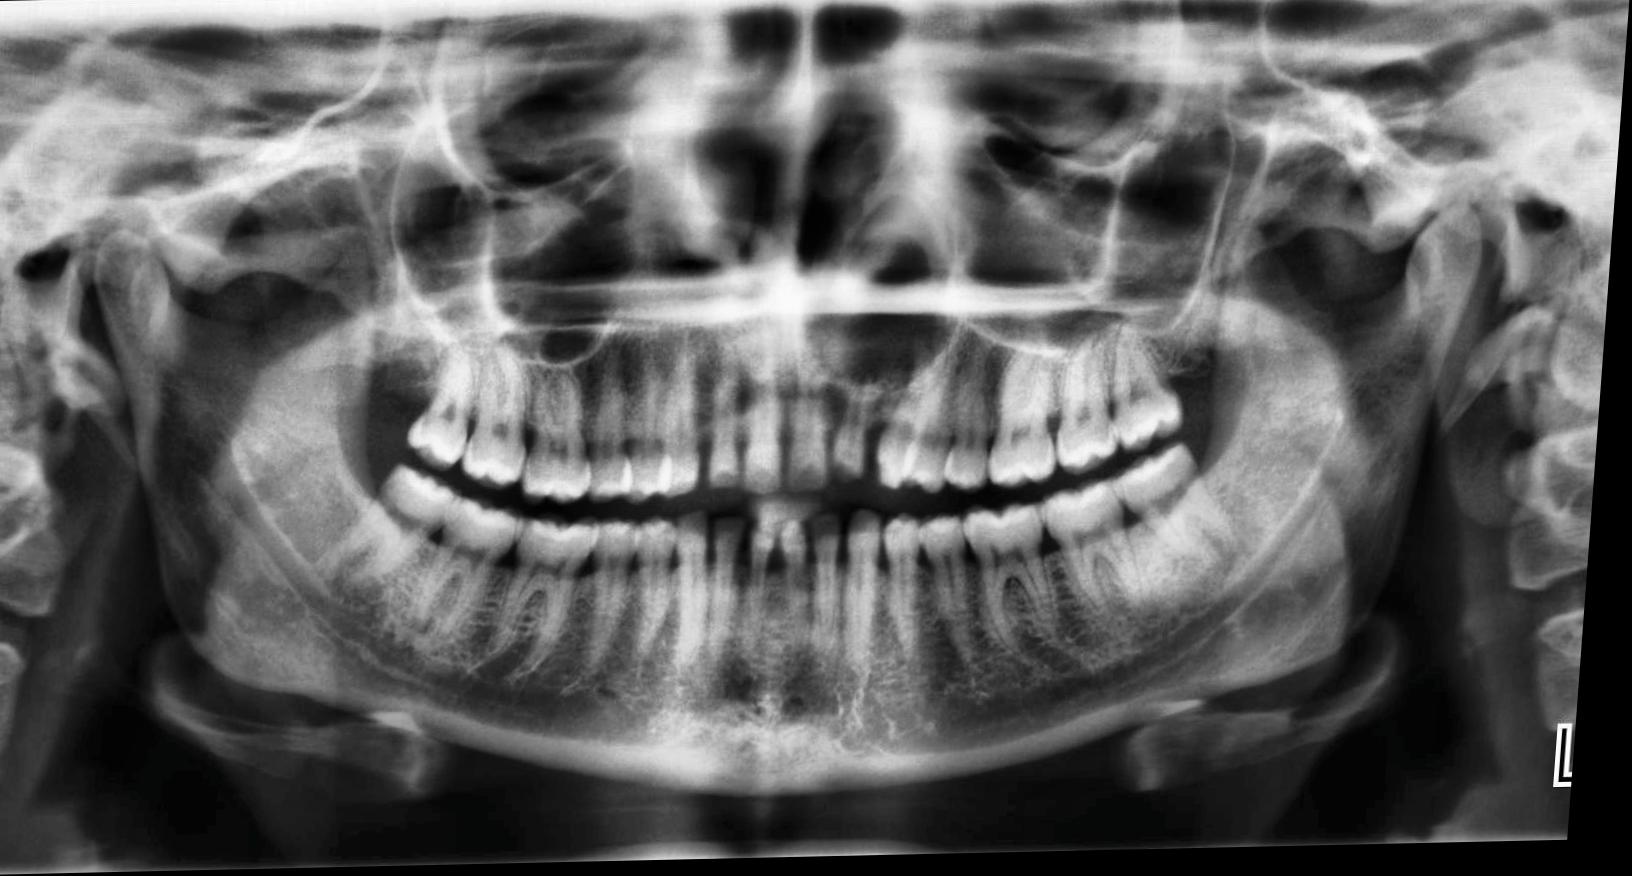radikuler: (802, 193, 976, 399)
